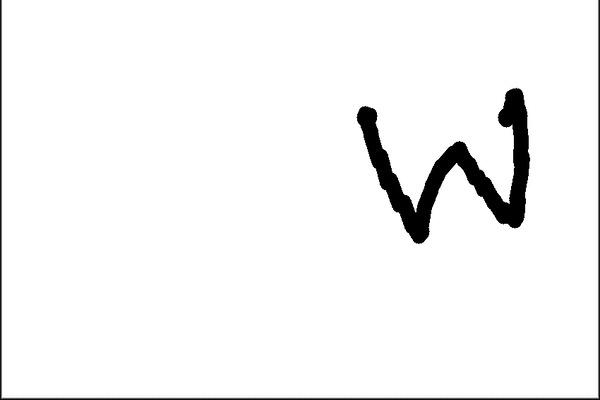w: (345, 74, 544, 257)
